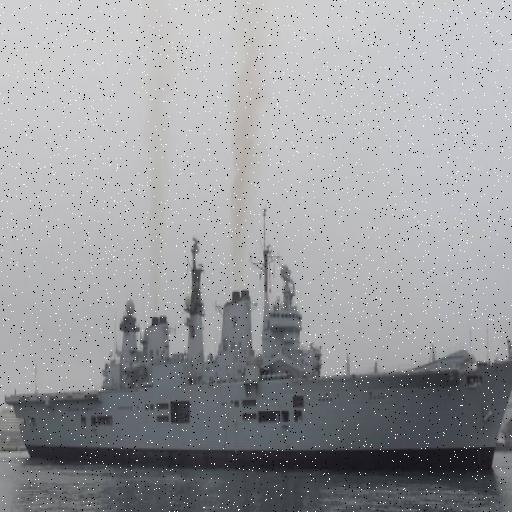Portanaves: (1, 198, 512, 477)
